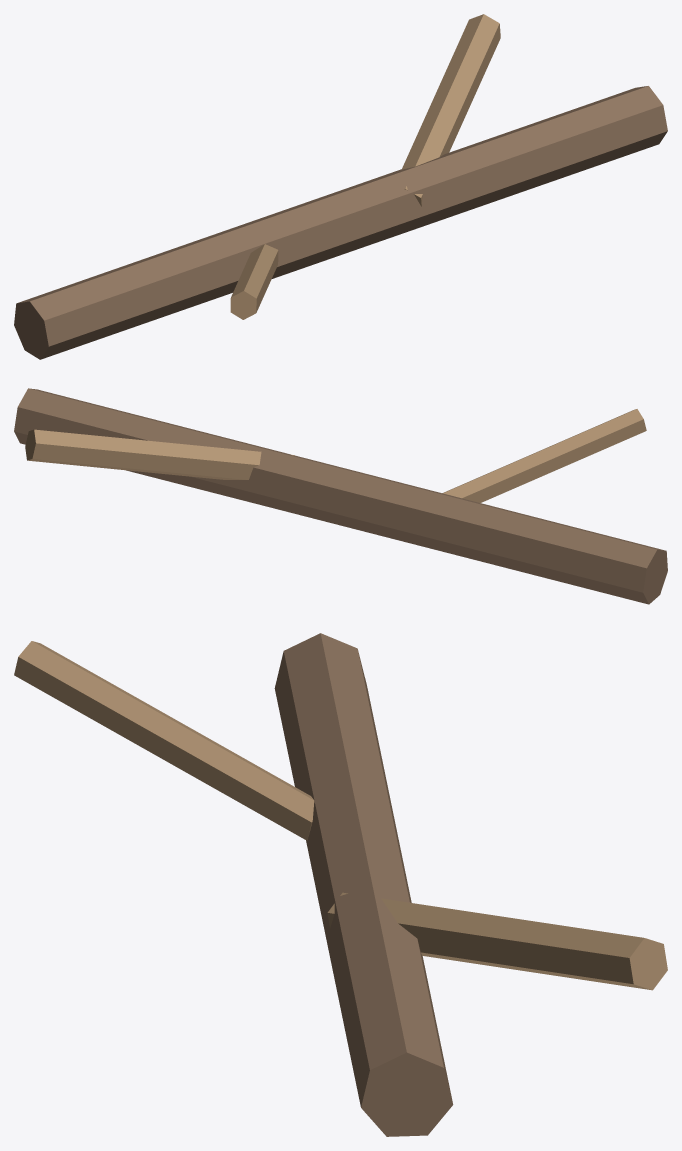
Rendered from myb_forest_dead_branch_a.fbx.
3 views of the same model, one above another, from view 1: azimuth 30°, elevation 25°; view 2: azimuth 150°, elevation 25°; view 3: azimuth 270°, elevation 25° (orthographic). The views are drawn at different scales.
Parts seen in each view (by area): view 1: myb_forest_dead_branch_a; view 2: myb_forest_dead_branch_a; view 3: myb_forest_dead_branch_a.
Boxes of the visible parts, x1,y1,x2,y2 form: myb_forest_dead_branch_a: (14, 14, 667, 359); myb_forest_dead_branch_a: (14, 388, 667, 604); myb_forest_dead_branch_a: (14, 633, 667, 1136).
Size of the model in its own units: 1.31 by 0.2407 by 0.7577.
